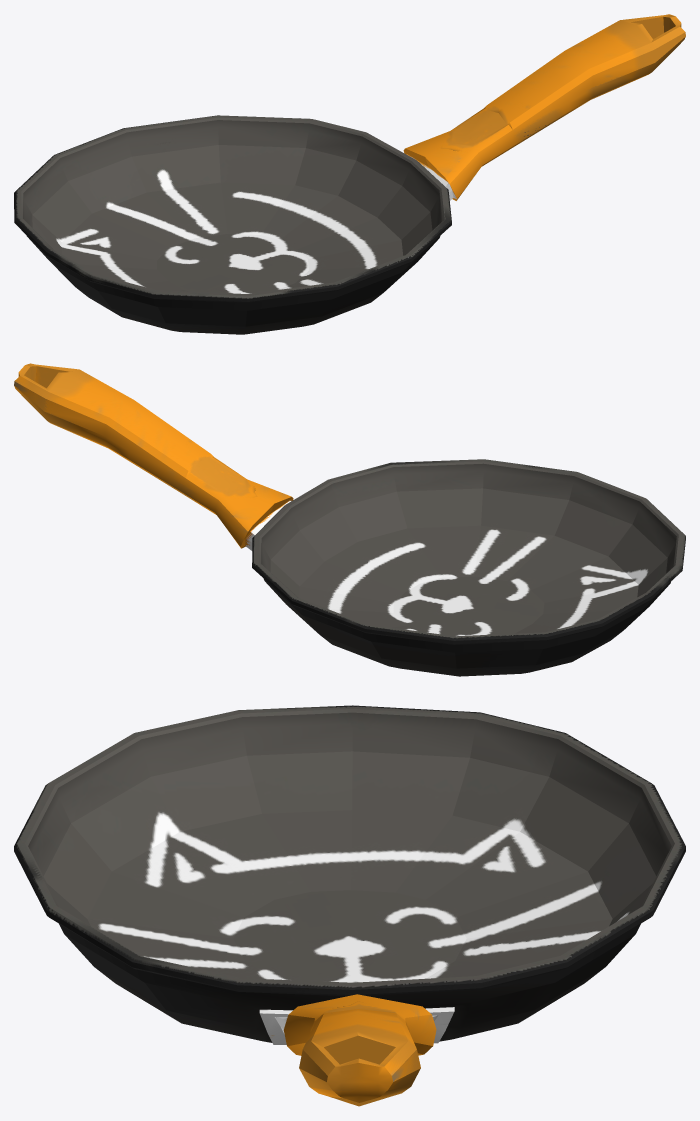
The model's file is Final_Pan.fbx.
The picture shows the model from 3 angles, top to bottom: view 1: azimuth 30°, elevation 25°; view 2: azimuth 150°, elevation 25°; view 3: azimuth 270°, elevation 25°; orthographic projection. The views are drawn at different scales.
Parts seen in each view (by area): view 1: pCube1; view 2: pCube1; view 3: pCube1.
Part boxes in pixels (box(x1,y1,x2,y2)): pCube1: box(14, 14, 685, 334); pCube1: box(14, 363, 685, 676); pCube1: box(14, 705, 685, 1106).
Size of the model in its own units: 20.15 by 4.51 by 11.89.
Materials: 1 (1 with a texture image).
